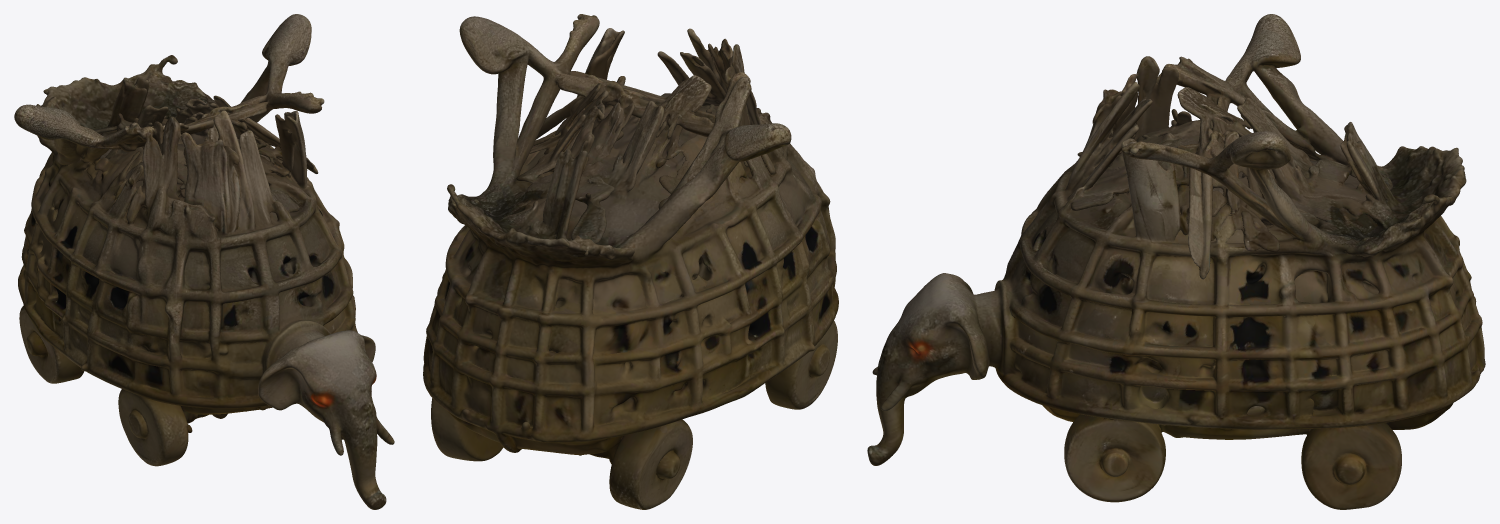
3 views of the same model, side by side, from view 1: azimuth 30°, elevation 25°; view 2: azimuth 150°, elevation 25°; view 3: azimuth 270°, elevation 25° (orthographic). The views are drawn at different scales.
Parts seen in each view (by area): view 1: tripo_node_48240864-a559-48db-a0c0-3888c01c567a; view 2: tripo_node_48240864-a559-48db-a0c0-3888c01c567a; view 3: tripo_node_48240864-a559-48db-a0c0-3888c01c567a.
Part boxes in pixels (x1,y1,x2,y2): tripo_node_48240864-a559-48db-a0c0-3888c01c567a: [14, 14, 394, 509]; tripo_node_48240864-a559-48db-a0c0-3888c01c567a: [423, 14, 838, 509]; tripo_node_48240864-a559-48db-a0c0-3888c01c567a: [867, 14, 1485, 509].
Size of the model in its own units: 0.6079 by 0.6996 by 1.
1 material, 1 textured.
